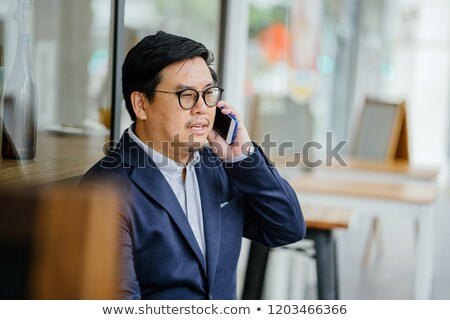phone: (212, 99, 251, 154)
talk: (170, 77, 263, 170)
